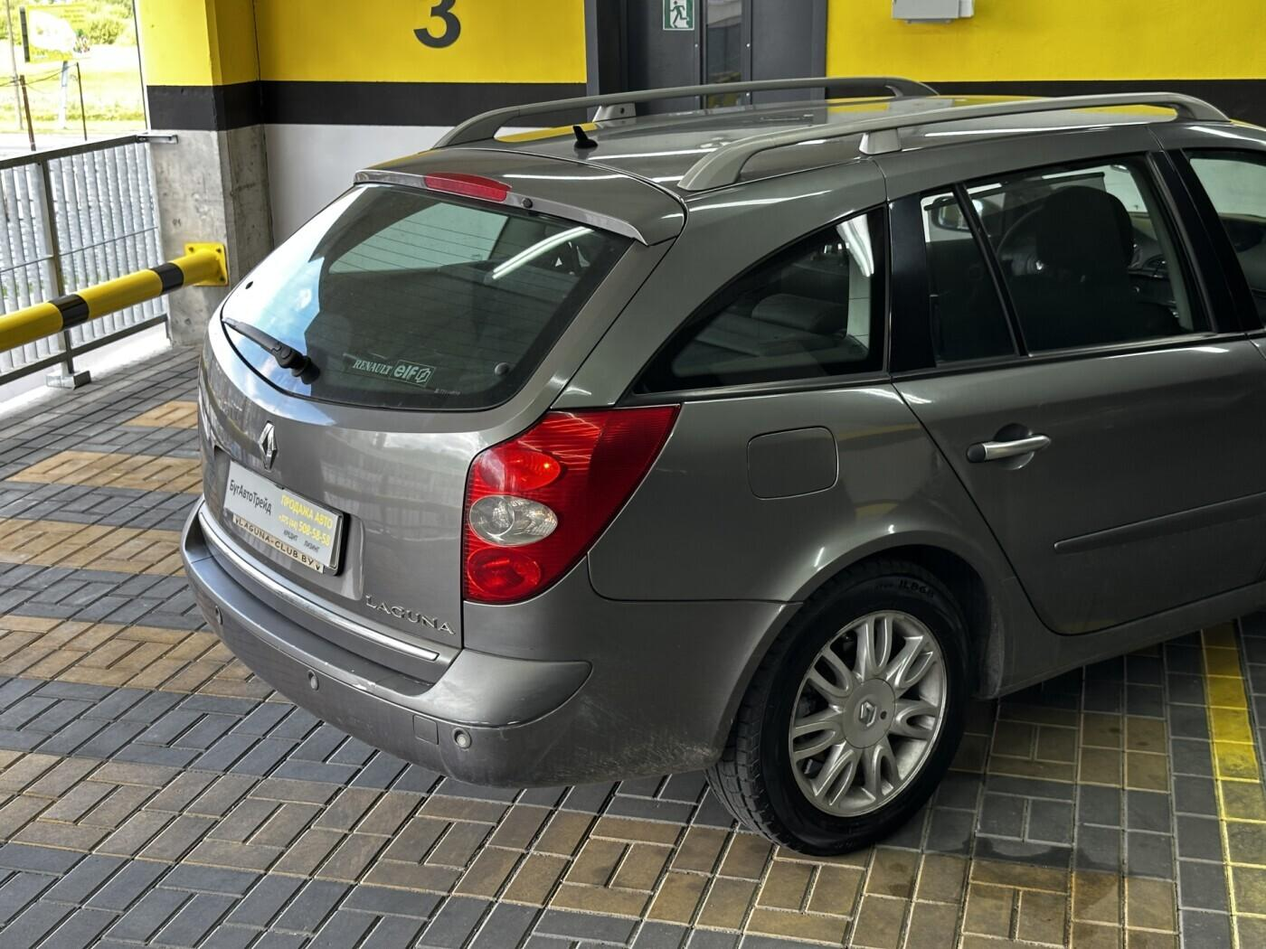Laguna_2005-2007: (172, 90, 1266, 852)
